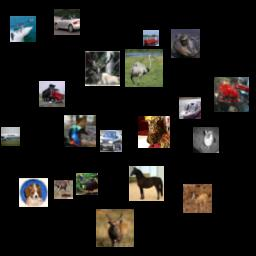airplane: (1, 127, 20, 146)
automobile: (214, 77, 249, 112), (54, 9, 80, 35), (100, 130, 122, 152)
bird: (125, 49, 163, 87), (64, 115, 96, 147), (76, 173, 98, 195), (54, 180, 73, 199)
cat: (138, 116, 170, 148), (193, 127, 219, 153)
deer: (96, 209, 134, 247), (85, 51, 120, 86), (183, 184, 212, 213)
dog: (19, 178, 48, 207)
frog: (171, 29, 200, 58)
ship: (10, 16, 36, 42), (179, 97, 201, 119), (143, 30, 159, 46)
truck: (39, 81, 65, 107)
